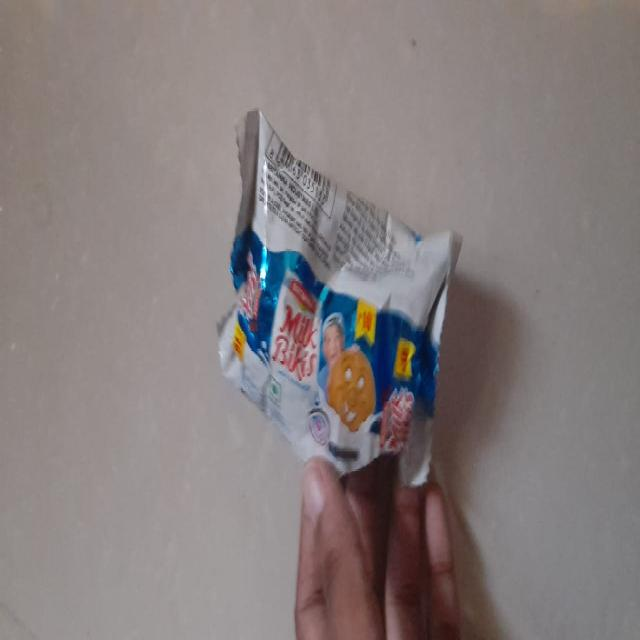Plastic - Recyclable: (215, 104, 461, 488)
